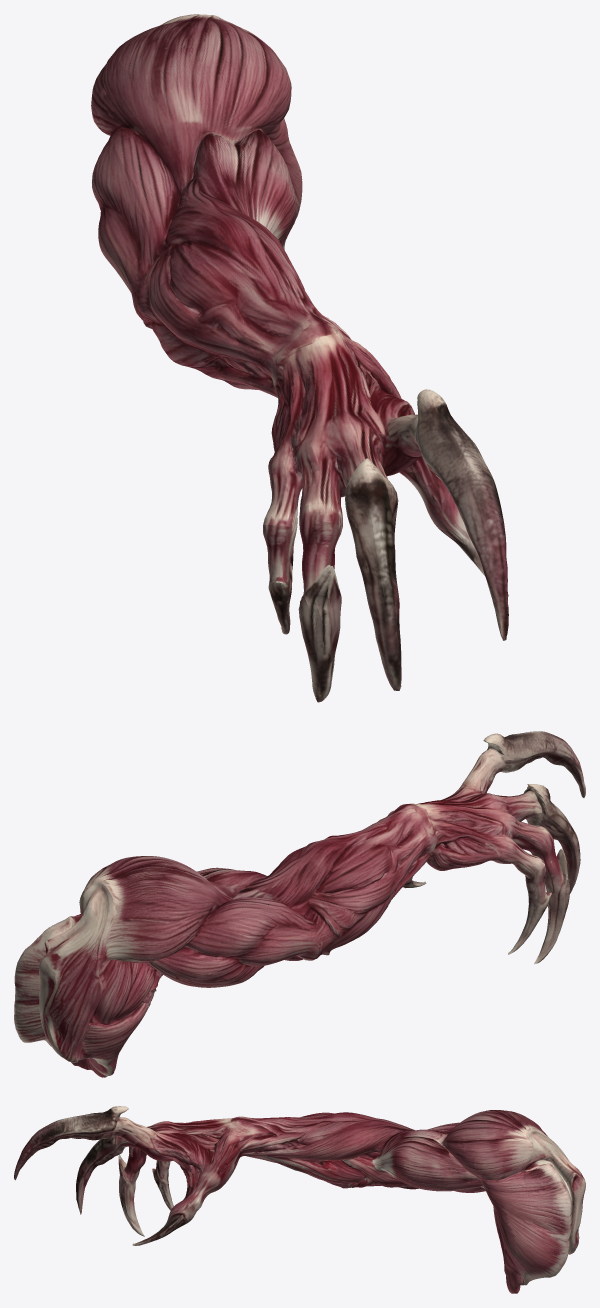
File: mutated_arm_shoulder_leve.glb
3 views of the same model, one above another, from view 1: azimuth 30°, elevation 25°; view 2: azimuth 150°, elevation 25°; view 3: azimuth 270°, elevation 25° (orthographic). The views are drawn at different scales.
Visible parts, largest first — view 1: Mesh0; view 2: Mesh0; view 3: Mesh0.
Boxes of the visible parts, x1,y1,x2,y2 form: Mesh0: (91, 14, 508, 702); Mesh0: (14, 731, 585, 1077); Mesh0: (14, 1106, 585, 1293).
Bounding box in the file's own units: 0.7749 × 0.6517 × 1.9.
1 material, 1 textured.
